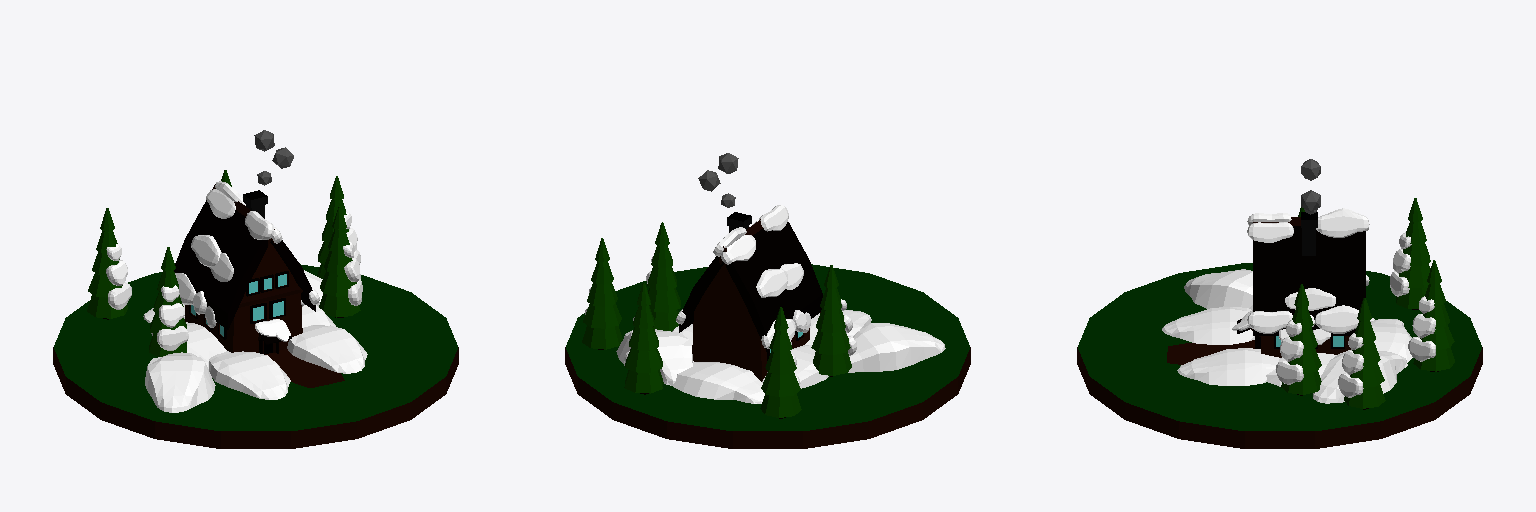
Rendered from Chalet_1257.obj.
3 views of the same model, side by side, from view 1: azimuth 30°, elevation 25°; view 2: azimuth 150°, elevation 25°; view 3: azimuth 270°, elevation 25° (orthographic).
Visible parts, largest first — view 1: Box078, Box048; view 2: Box078, Box048; view 3: Box078, Box048.
Part boxes in pixels (bbox=[...]): Box078: bbox=[53, 170, 458, 448]; Box048: bbox=[174, 130, 319, 354]; Box078: bbox=[565, 222, 970, 448]; Box048: bbox=[676, 153, 822, 381]; Box078: bbox=[1077, 198, 1482, 448]; Box048: bbox=[1232, 159, 1369, 357].
Size of the model in its own units: 111 by 66.72 by 112.